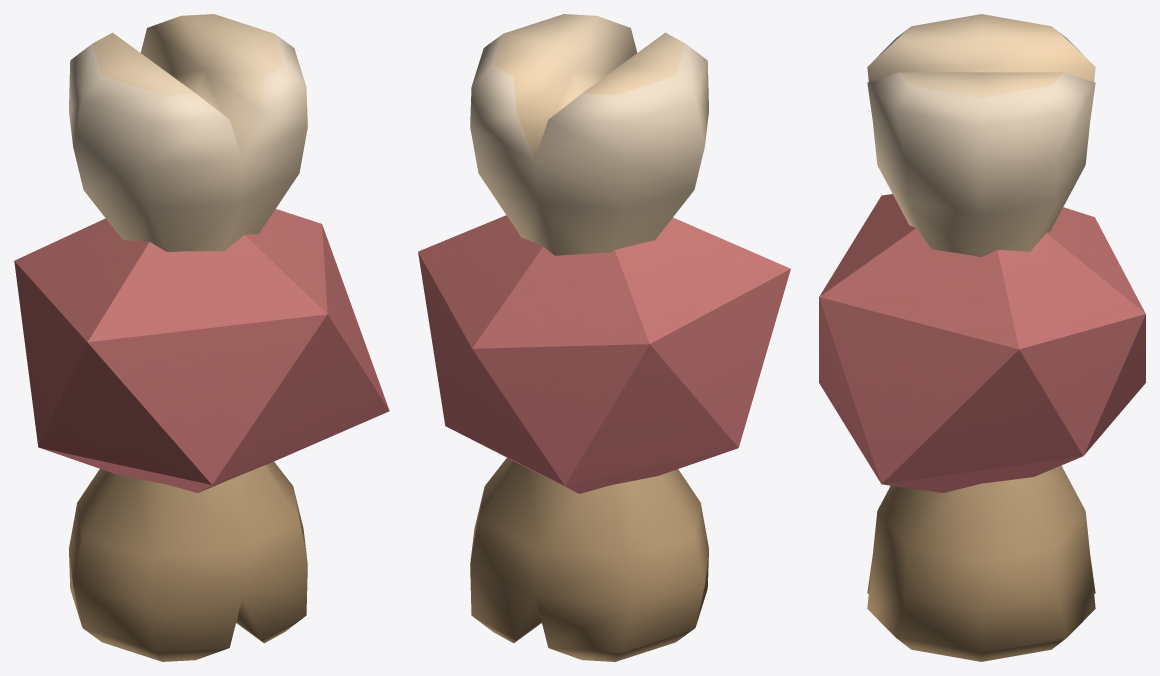
The model's file is level_pros.fbx.
3 views of the same model, side by side, from view 1: azimuth 30°, elevation 25°; view 2: azimuth 150°, elevation 25°; view 3: azimuth 270°, elevation 25° (orthographic).
Parts seen in each view (by area): view 1: Bone, Rock01; view 2: Bone, Rock01; view 3: Bone, Rock01.
Boxes of the visible parts, left/top/right/bottom form: Bone: left=69, top=14, right=307, bottom=661; Rock01: left=14, top=209, right=389, bottom=492; Bone: left=470, top=14, right=708, bottom=661; Rock01: left=418, top=215, right=790, bottom=493; Bone: left=867, top=14, right=1095, bottom=661; Rock01: left=819, top=194, right=1145, bottom=492.
Bounding box in the file's own units: 0.2618 × 0.4666 × 0.245.
Materials: 1 (1 with a texture image).
